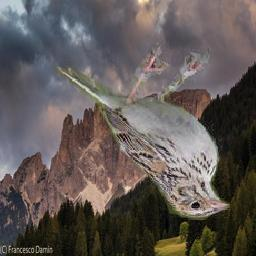Sparrow: (54, 40, 230, 220)
